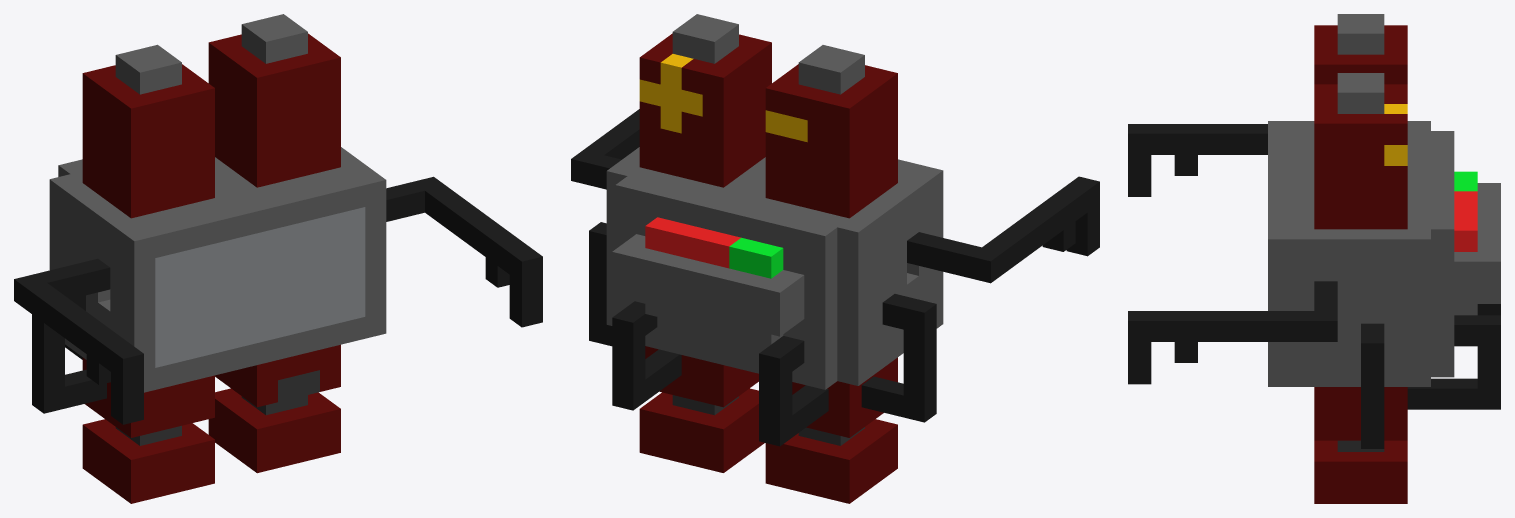
The model's file is Bag-10.obj.
The picture shows the model from 3 angles, left to right: view 1: azimuth 30°, elevation 25°; view 2: azimuth 150°, elevation 25°; view 3: azimuth 270°, elevation 25°; orthographic projection. The views are drawn at different scales.
Size of the model in its own units: 2 by 1.9 by 1.6.
1 material, 1 textured.
